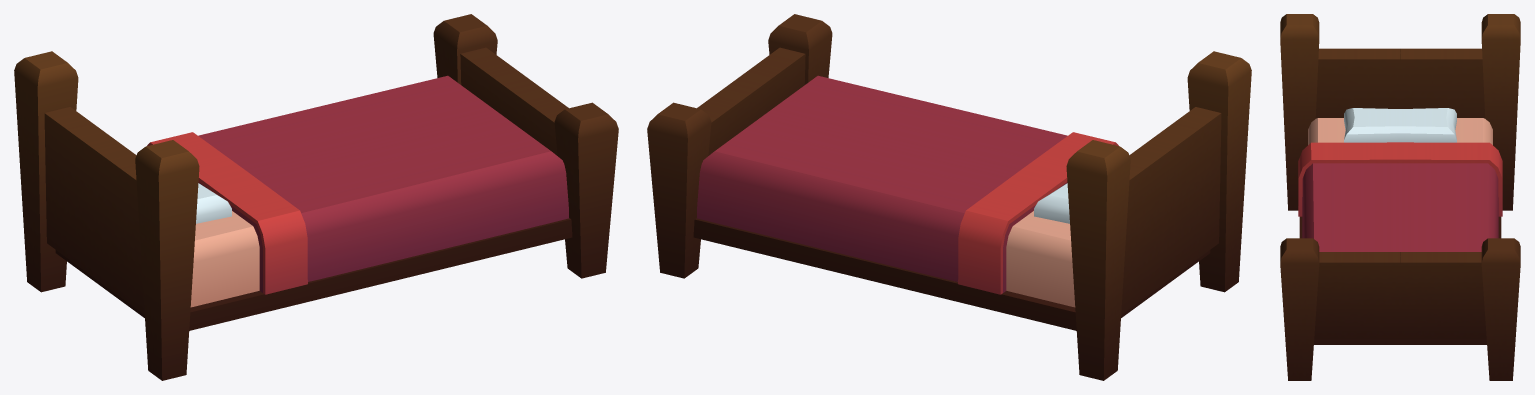
Rendered from Bed.fbx.
3 renders of one model, left to right at view 1: azimuth 30°, elevation 25°; view 2: azimuth 150°, elevation 25°; view 3: azimuth 270°, elevation 25°, orthographic. The views are drawn at different scales.
Parts seen in each view (by area): view 1: Bed; view 2: Bed; view 3: Bed.
Part boxes in pixels (<box>): Bed: <box>14,14,618,380</box>; Bed: <box>647,14,1251,380</box>; Bed: <box>1280,14,1520,380</box>.
Bounding box in the file's own units: 263 × 122 × 143.
